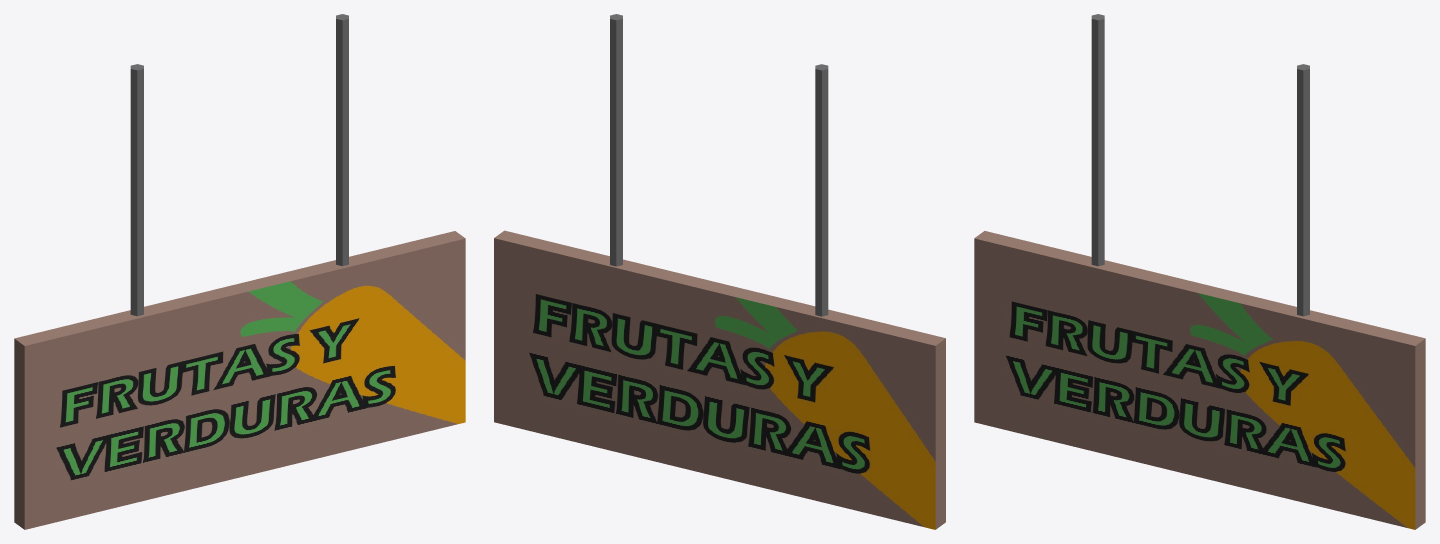
File: cartel_02.fbx
3 renders of one model, left to right at view 1: azimuth 30°, elevation 25°; view 2: azimuth 150°, elevation 25°; view 3: azimuth 330°, elevation 25°, orthographic.
Parts seen in each view (by area): view 1: Cartel VERDULERIA; view 2: Cartel VERDULERIA; view 3: Cartel VERDULERIA.
Part boxes in pixels (box(x1,y1,x2,y2)): Cartel VERDULERIA: box(14, 14, 465, 529); Cartel VERDULERIA: box(494, 14, 945, 529); Cartel VERDULERIA: box(974, 14, 1425, 529).
Bounding box in the file's own units: 173 × 161 × 7.08.
3 materials, 1 textured.
